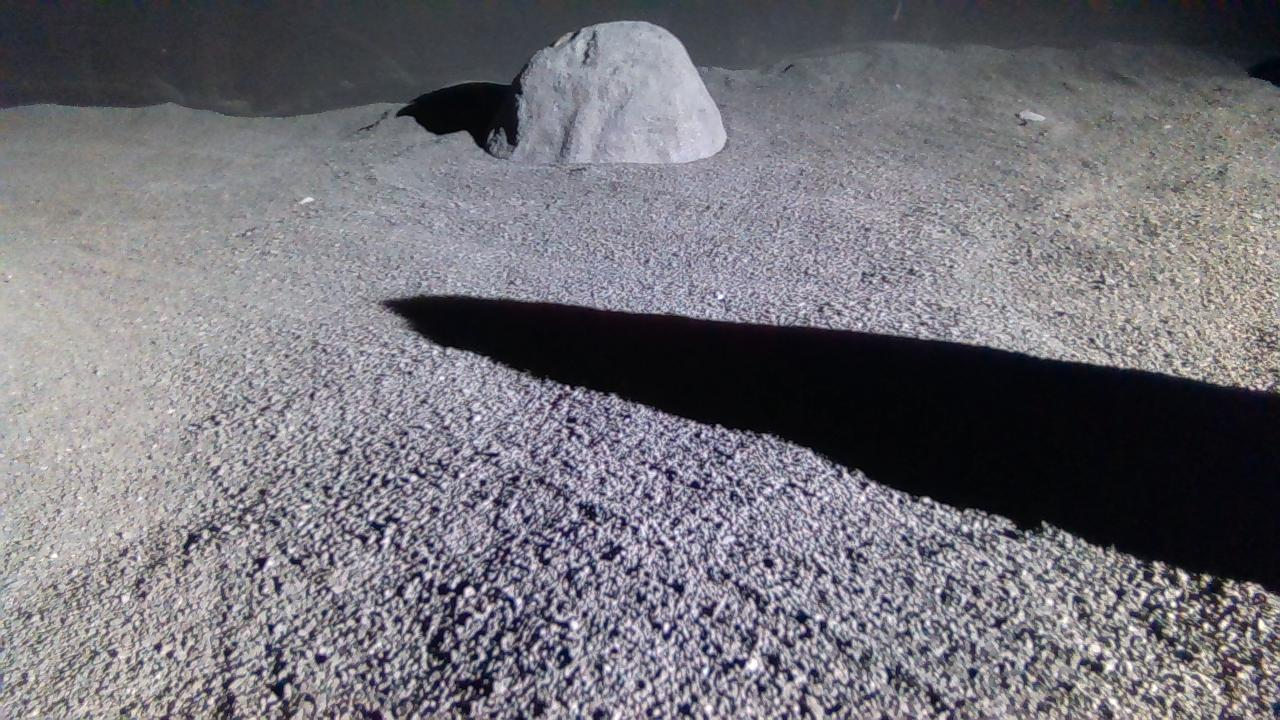rock: (486, 19, 727, 162)
